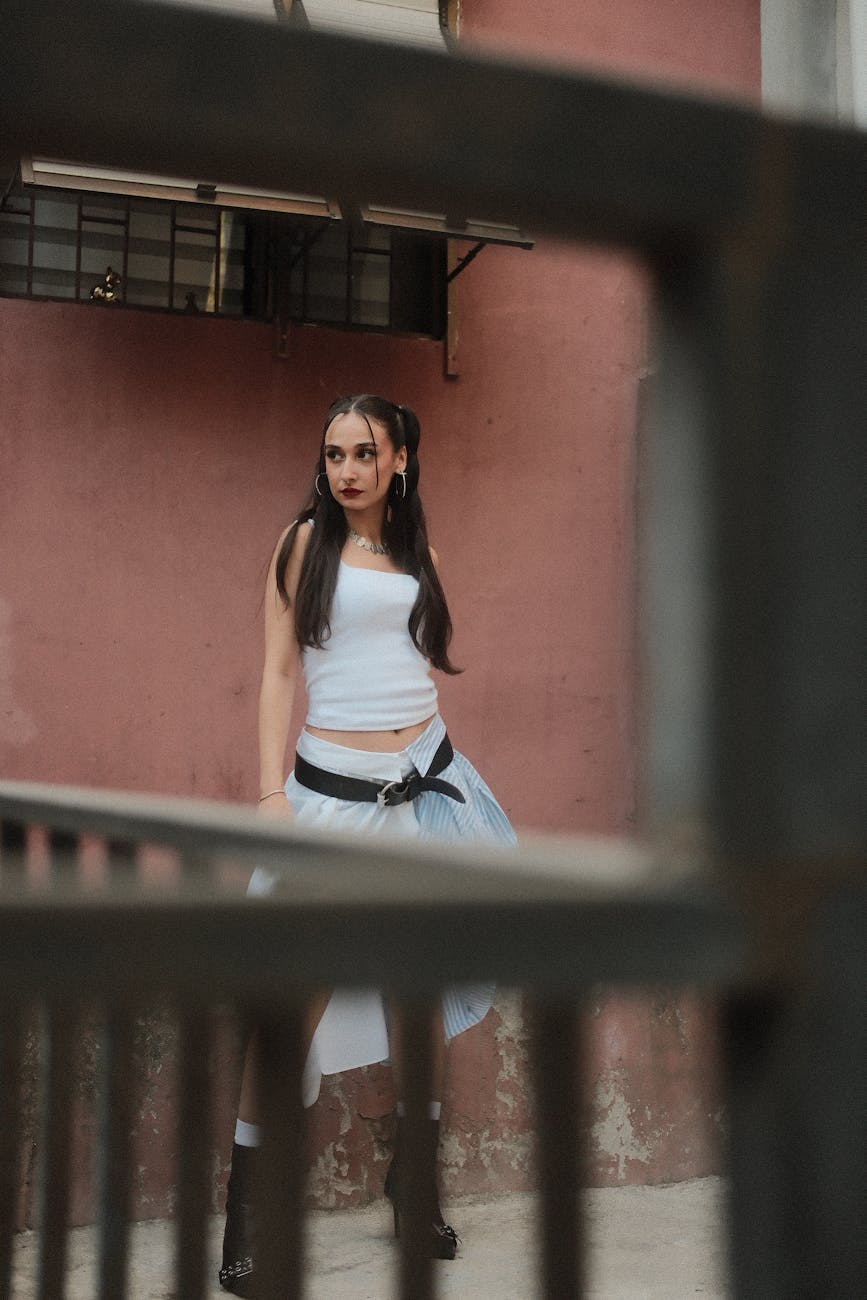crop_top: (278, 544, 456, 730)
